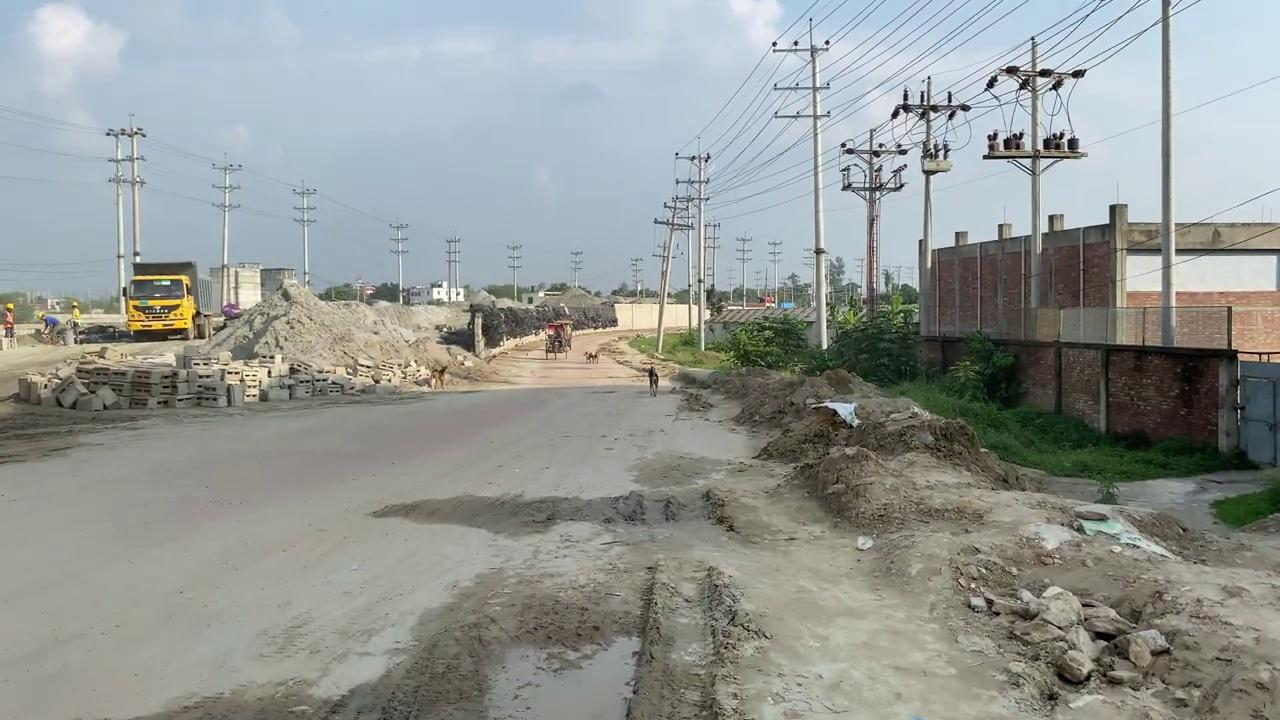Animal: (810, 400, 859, 428)
Dog: (429, 365, 446, 389), (582, 350, 599, 363)
Garbage: (15, 344, 442, 410)
Muddy road: (808, 326, 1277, 720), (474, 586, 653, 720)
Pole: (771, 17, 833, 350), (1158, 0, 1175, 345), (210, 152, 242, 311), (105, 127, 126, 318)
Rickshaw: (484, 326, 655, 387)
Tree: (122, 260, 212, 341), (402, 281, 465, 306)
